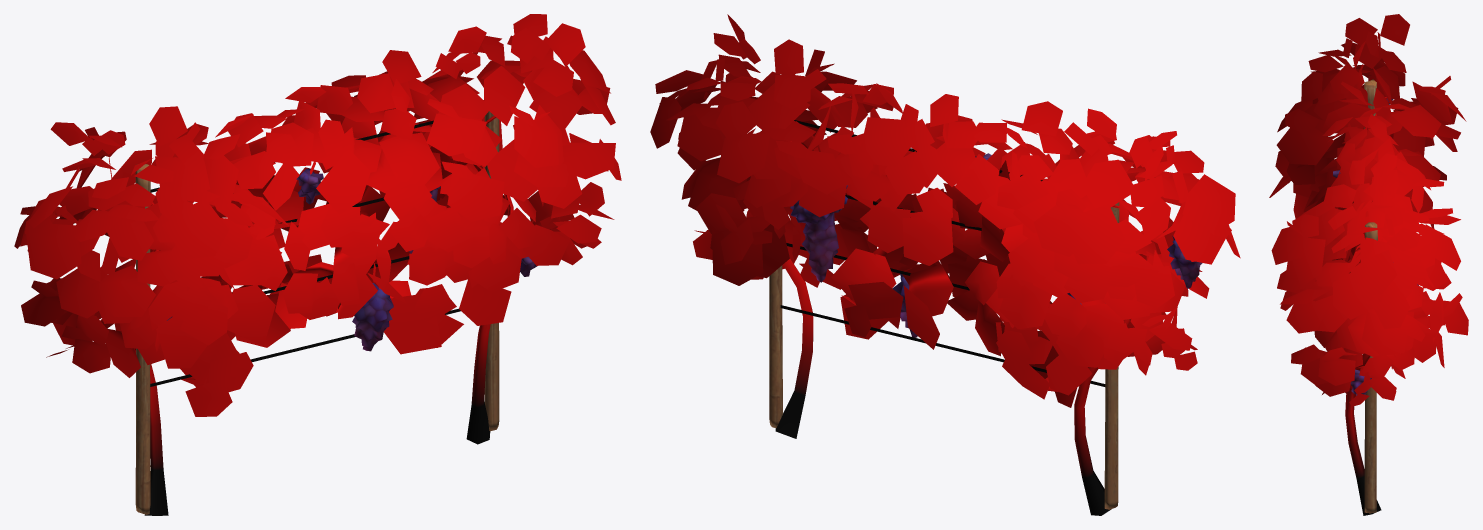
The model's file is SM_Farm_GrapevineFruits_03.fbx.
3 views of the same model, side by side, from view 1: azimuth 30°, elevation 25°; view 2: azimuth 150°, elevation 25°; view 3: azimuth 270°, elevation 25° (orthographic). The views are drawn at different scales.
Parts seen in each view (by area): view 1: SM_Farm_GrapevineFruits_03_LOD0; view 2: SM_Farm_GrapevineFruits_03_LOD0; view 3: SM_Farm_GrapevineFruits_03_LOD0.
Boxes of the visible parts, x1,y1,x2,y2 form: SM_Farm_GrapevineFruits_03_LOD0: [14, 14, 621, 515]; SM_Farm_GrapevineFruits_03_LOD0: [650, 14, 1240, 515]; SM_Farm_GrapevineFruits_03_LOD0: [1269, 14, 1468, 515].
Size of the model in its own units: 255 by 170 by 89.49.
